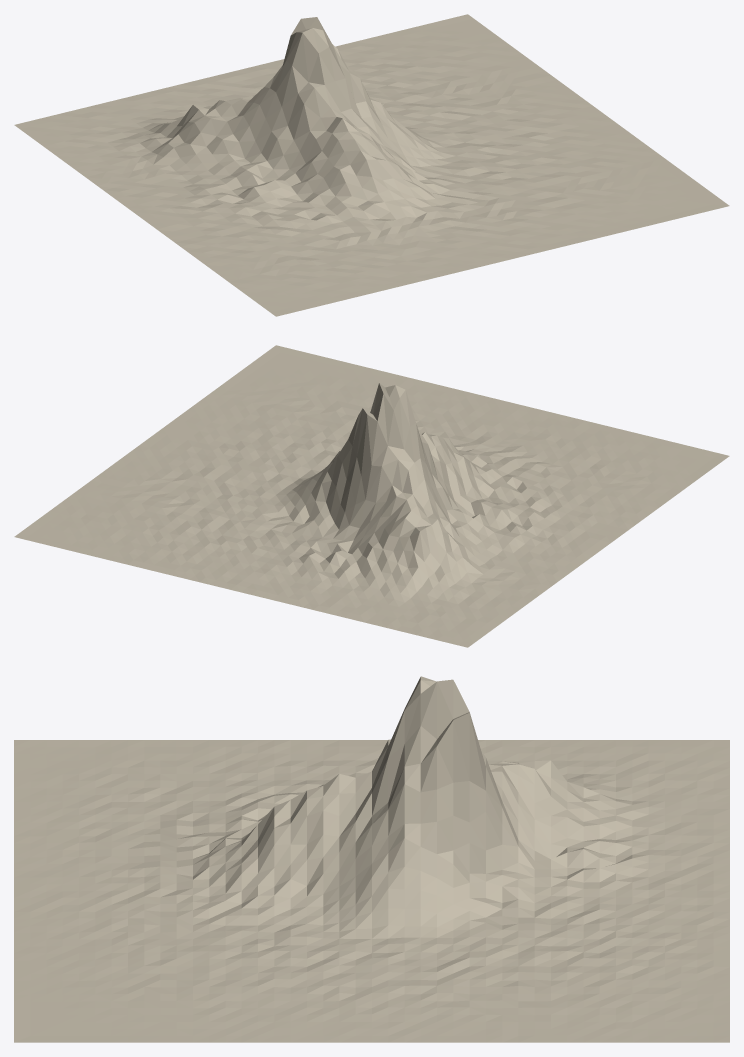
File: Ground_m_05.fbx
The picture shows the model from 3 angles, top to bottom: view 1: azimuth 30°, elevation 25°; view 2: azimuth 150°, elevation 25°; view 3: azimuth 270°, elevation 25°; orthographic projection. The views are drawn at different scales.
Parts seen in each view (by area): view 1: Ground_m_05; view 2: Ground_m_05; view 3: Ground_m_05.
Boxes of the visible parts, box(x1,y1,x2,y2) form: Ground_m_05: box(14, 14, 729, 316); Ground_m_05: box(14, 345, 729, 647); Ground_m_05: box(14, 676, 729, 1042).
Bounding box in the file's own units: 10000 × 2922 × 10000.
